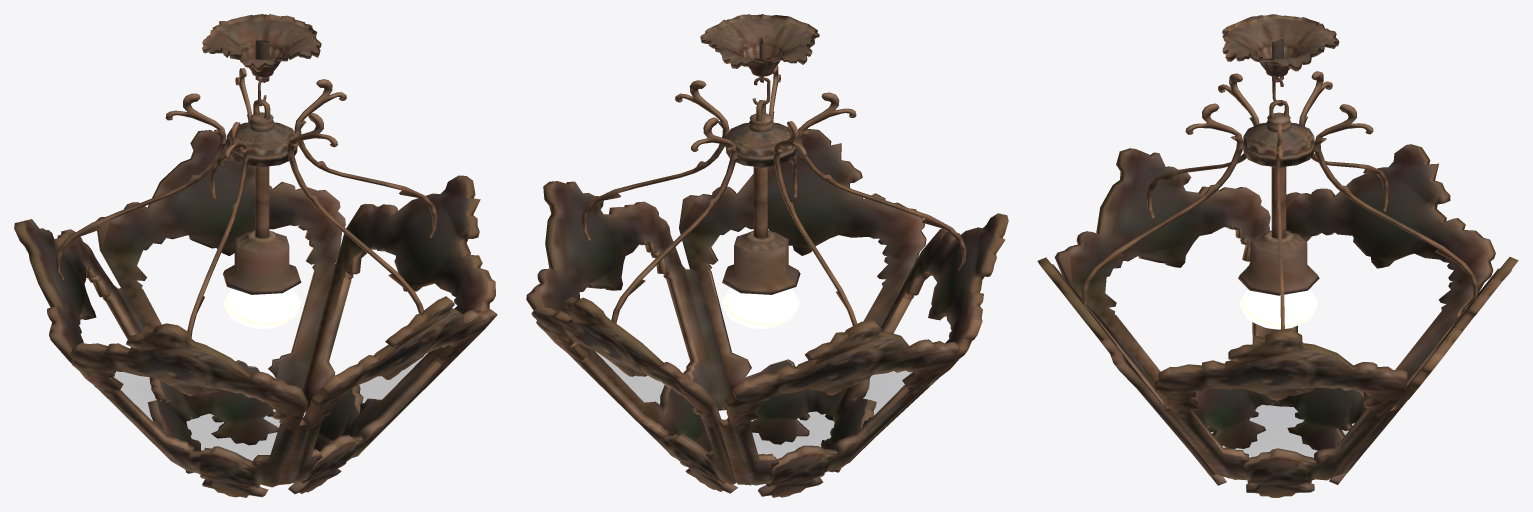
Rendered from ph-lantern-chandelier-01.glb.
3 views of the same model, side by side, from view 1: azimuth 30°, elevation 25°; view 2: azimuth 150°, elevation 25°; view 3: azimuth 270°, elevation 25° (orthographic).
Parts seen in each view (by area): view 1: lantern_chandelier_01; view 2: lantern_chandelier_01; view 3: lantern_chandelier_01.
Boxes of the visible parts, x1=… form: lantern_chandelier_01: x1=14, y1=14, x2=497, y2=497; lantern_chandelier_01: x1=526, y1=14, x2=1008, y2=497; lantern_chandelier_01: x1=1037, y1=14, x2=1518, y2=497.
Bounding box in the file's own units: 1 × 1 × 1.
Materials: 3 (2 with a texture image).
